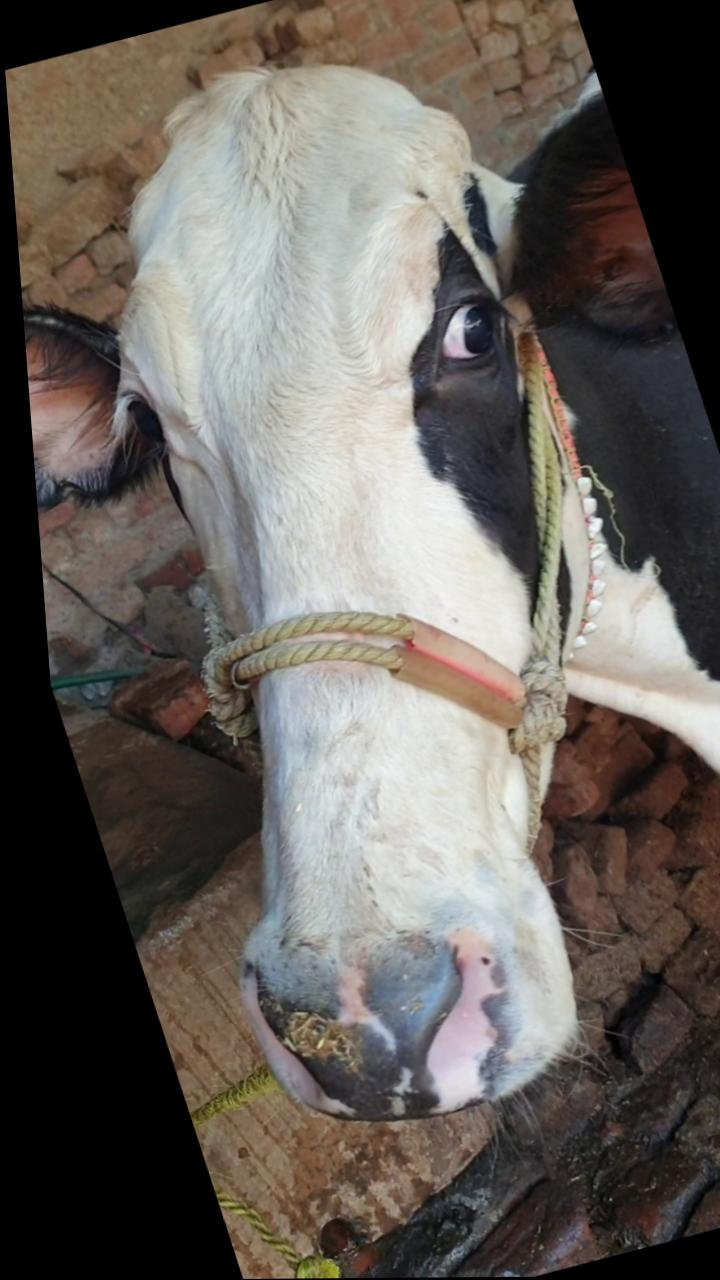cows: (1, 10, 720, 1183)
